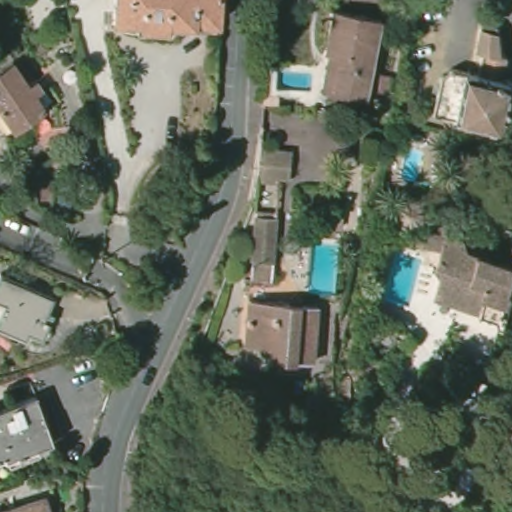pool: (381, 249, 423, 311), (307, 236, 344, 297), (400, 145, 430, 185), (274, 68, 315, 96)
